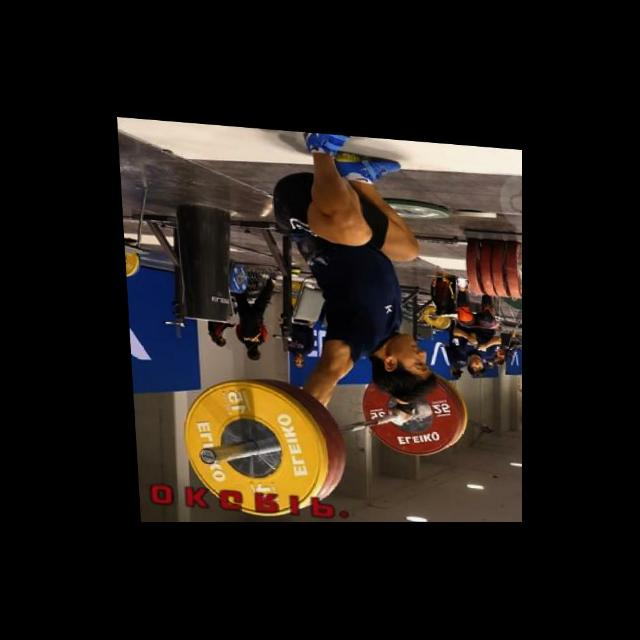barbell: (171, 365, 345, 522)
